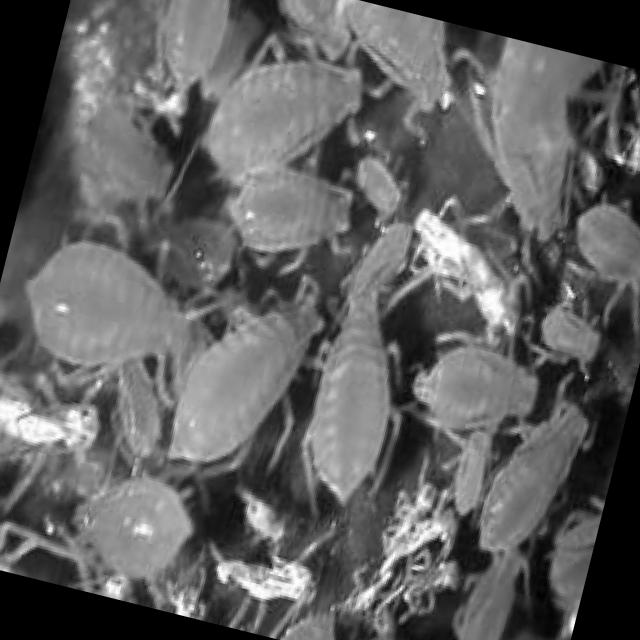Aphids: (138, 235, 342, 502), (183, 19, 388, 220), (273, 274, 427, 530), (0, 216, 203, 402), (458, 366, 608, 580), (203, 134, 389, 292), (392, 314, 556, 472), (58, 454, 210, 596), (62, 91, 186, 213), (551, 187, 640, 317), (438, 535, 544, 640), (137, 0, 246, 94)
